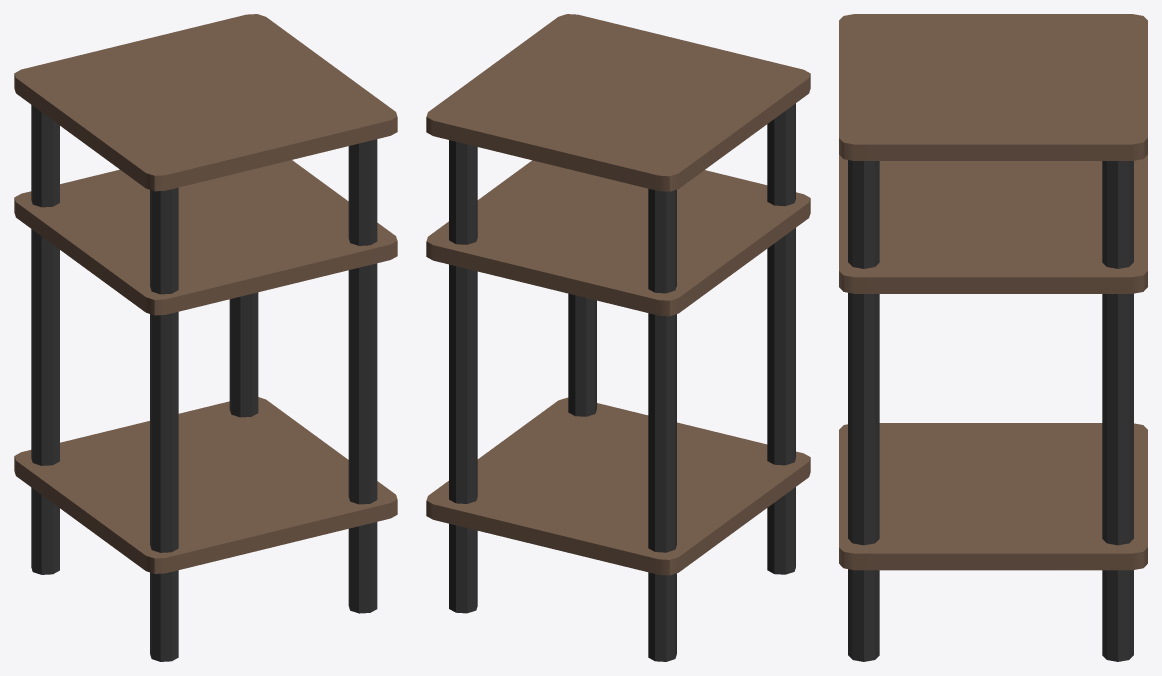
File: Table 2.fbx
The picture shows the model from 3 angles, left to right: view 1: azimuth 30°, elevation 25°; view 2: azimuth 150°, elevation 25°; view 3: azimuth 270°, elevation 25°; orthographic projection. The views are drawn at different scales.
Visible parts, largest first — view 1: Table2_group3_pCube2; view 2: Table2_group3_pCube2; view 3: Table2_group3_pCube2.
Part boxes in pixels (x1,y1,x2,y2): Table2_group3_pCube2: [14, 14, 397, 661]; Table2_group3_pCube2: [426, 14, 810, 661]; Table2_group3_pCube2: [839, 14, 1147, 661].
Size of the model in its own units: 1.98 by 3.71 by 1.98.
